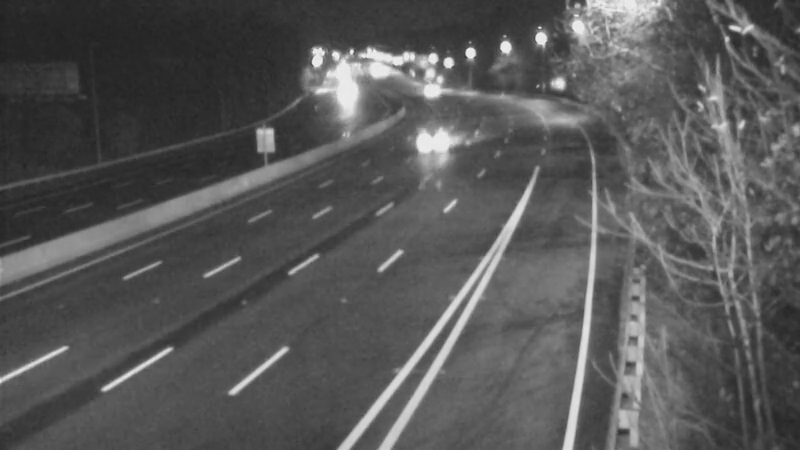vehicle: (402, 66, 452, 116), (418, 117, 468, 167), (318, 75, 368, 125)
